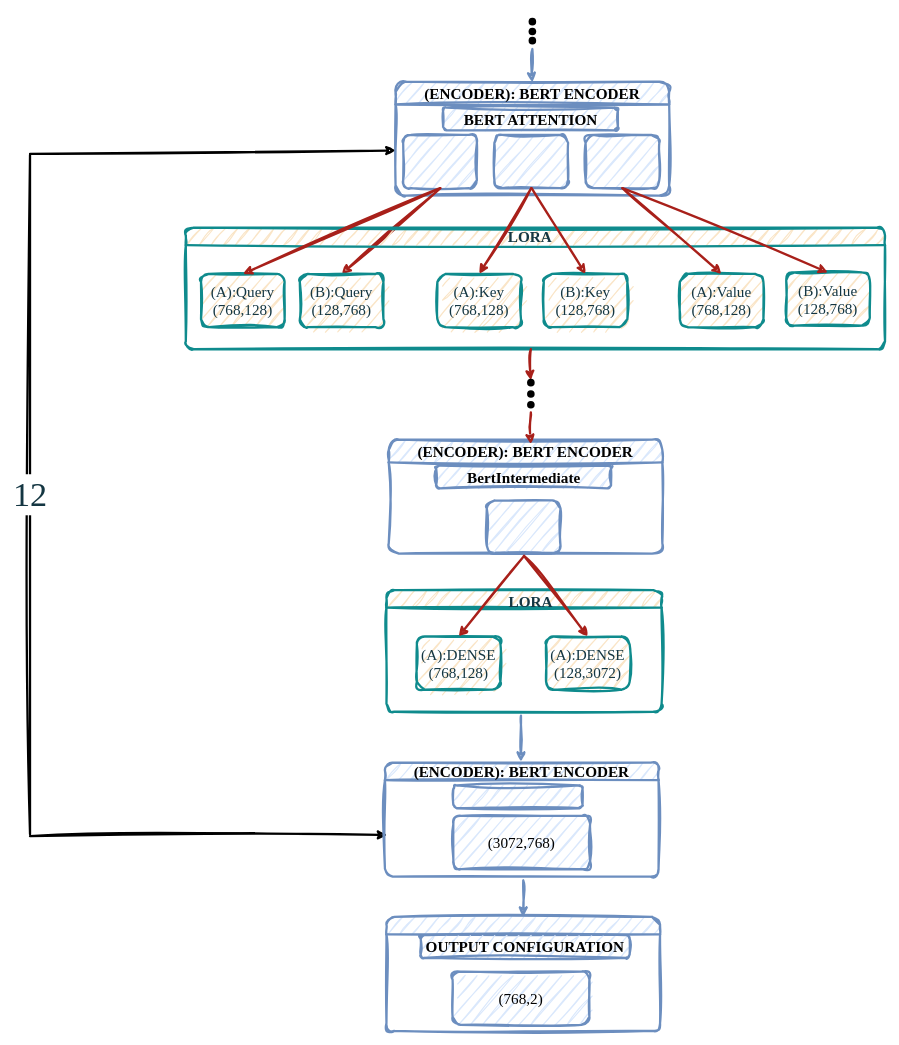
Some shapes in this 899 by 1045 pixel diagram are drawn without their labels. Each missing label, with the box of its shape:
BERT OUTPUT: (452, 784, 583, 809)
DENSE: (385, 915, 661, 1032)
DENSE (768,3072): (485, 499, 561, 554)
KEY (768,768): (493, 133, 569, 189)
QUERY (768,768): (402, 133, 478, 189)
VALUE (768,768): (584, 133, 660, 189)
